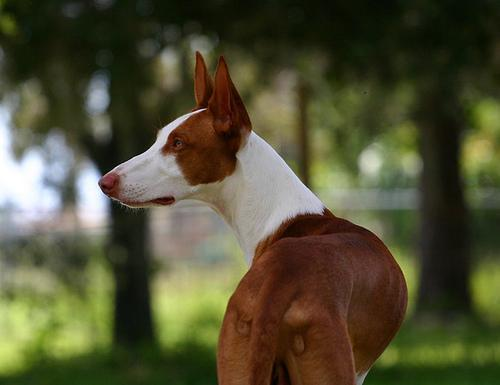Ibizan_hound: (95, 49, 410, 383)
